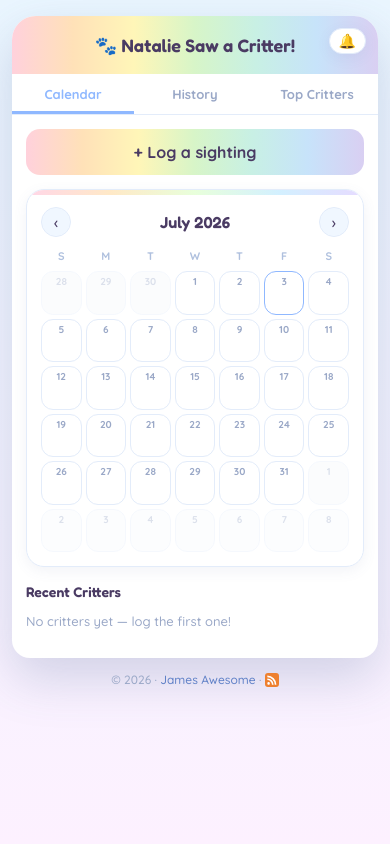
Test: App shell › threads friends into the picker
Click the button "+ Log a sighting" at (195, 152), box top-left (26, 129), bottom-right (364, 175)
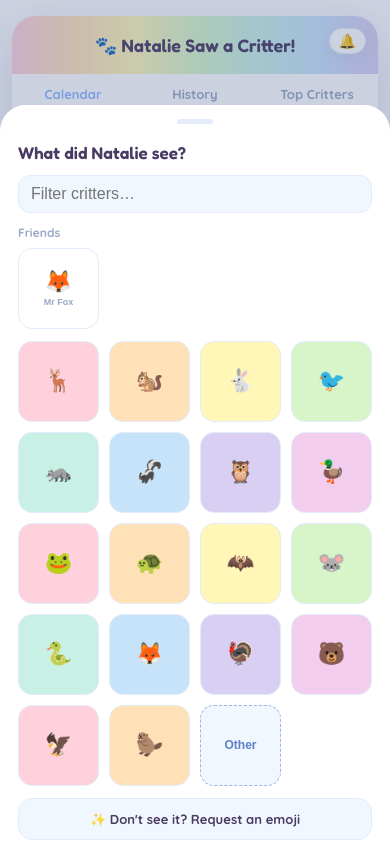
Check: the button with aria-label "Friend Mr Fox" is shown, box top-left (18, 248), bottom-right (99, 329)
